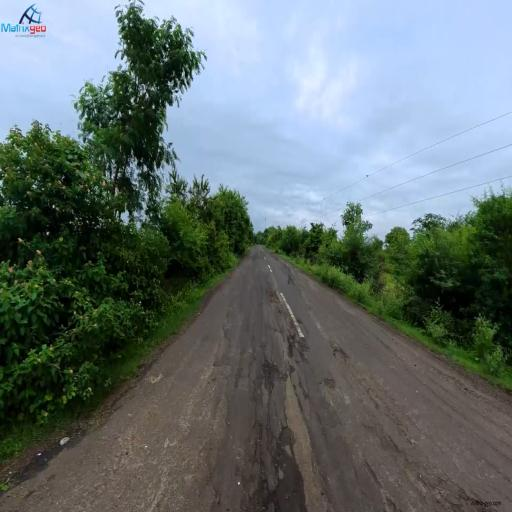ravelling: (249, 292, 354, 496)
